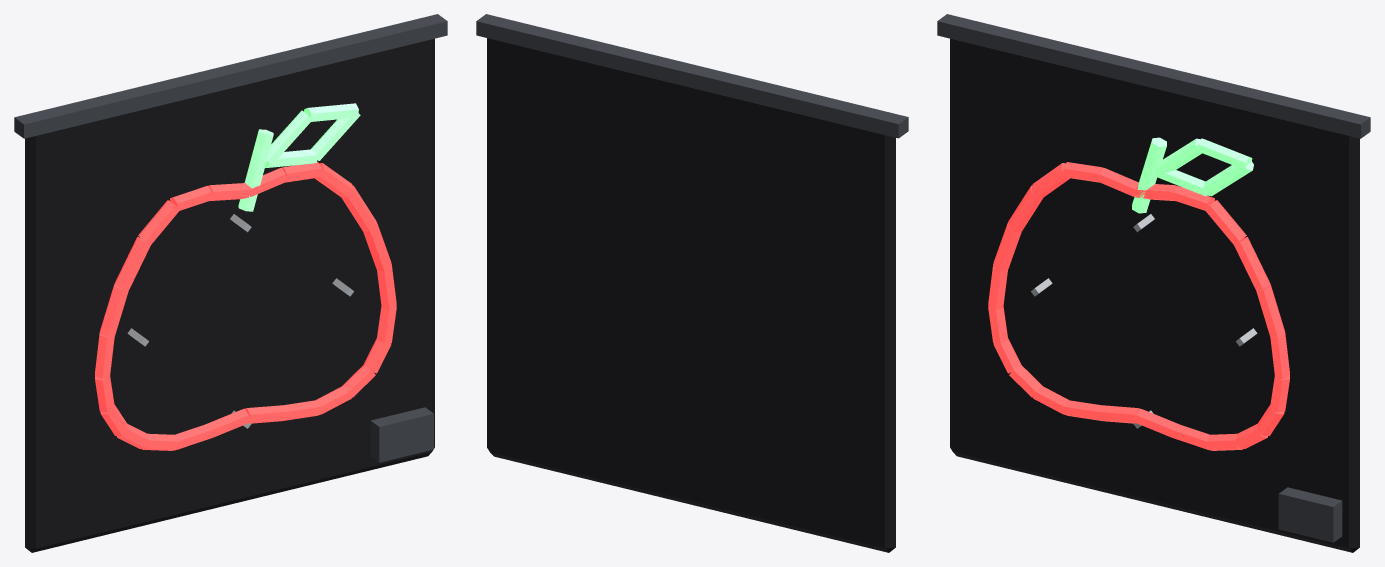
The model's file is Neon_Apple_Market.fbx.
3 views of the same model, side by side, from view 1: azimuth 30°, elevation 25°; view 2: azimuth 150°, elevation 25°; view 3: azimuth 330°, elevation 25° (orthographic).
Visible parts, largest first — view 1: Neon_Apple_Market; view 2: Neon_Apple_Market; view 3: Neon_Apple_Market.
Part boxes in pixels (bbox=[...]): Neon_Apple_Market: bbox=[14, 14, 447, 552]; Neon_Apple_Market: bbox=[476, 14, 908, 552]; Neon_Apple_Market: bbox=[937, 14, 1370, 552].
Size of the model in its own units: 1.24 by 1.22 by 0.1191.
Materials: 1 (1 with a texture image).
